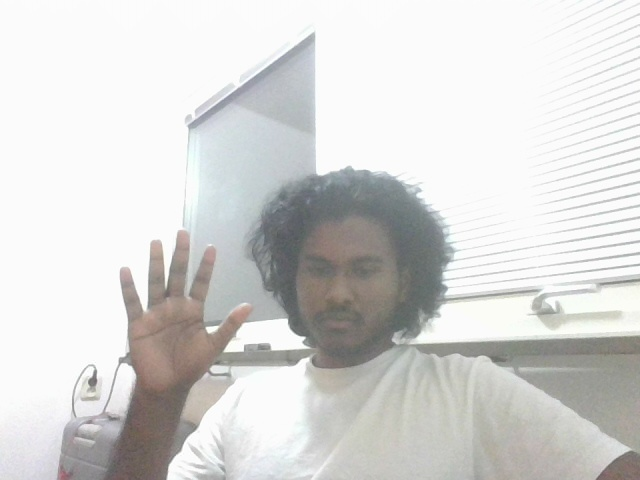hello: (107, 225, 253, 398)
